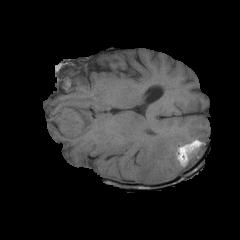glioma: (47, 107, 206, 183)
